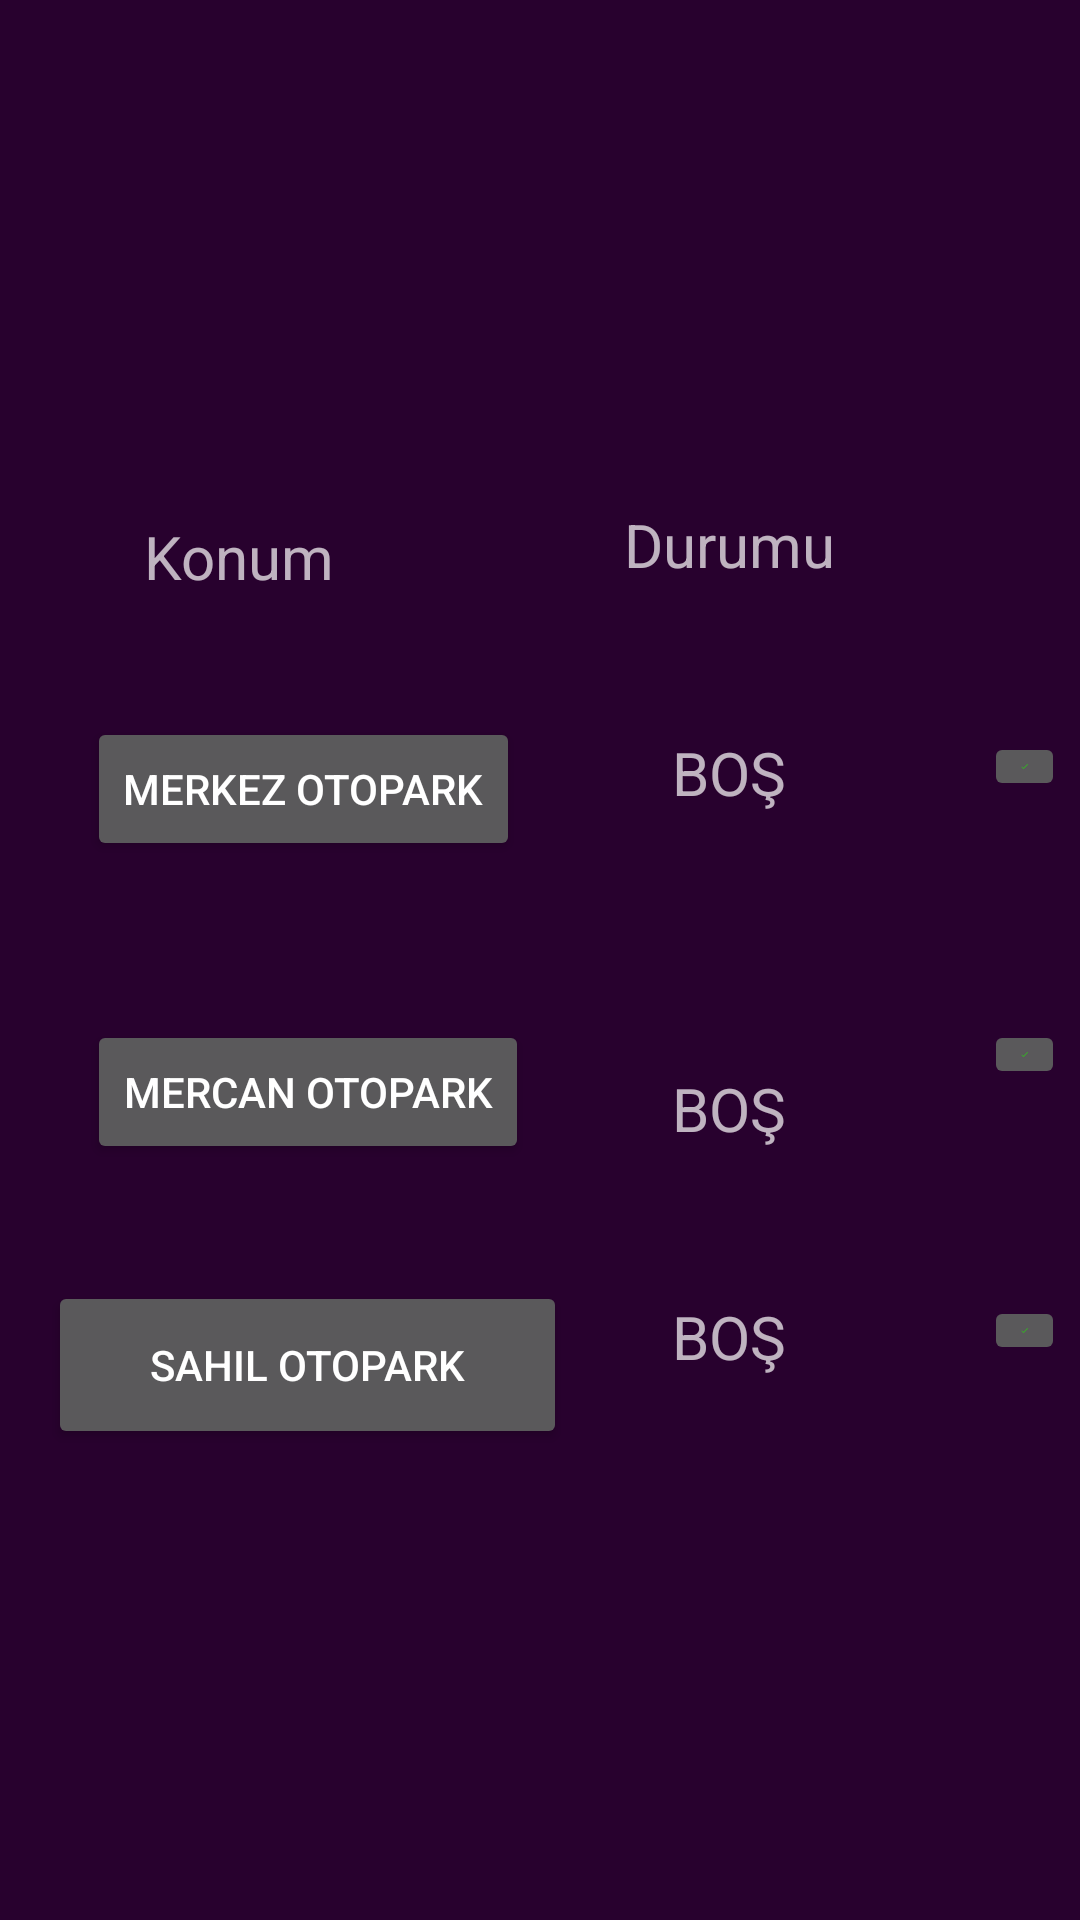

Locate icon controls on the screen. Image size 1080*1920, boxes as (x1, y1, x2, y2).
tick: (996, 750, 1053, 783), (996, 1038, 1053, 1071), (996, 1314, 1053, 1347)
